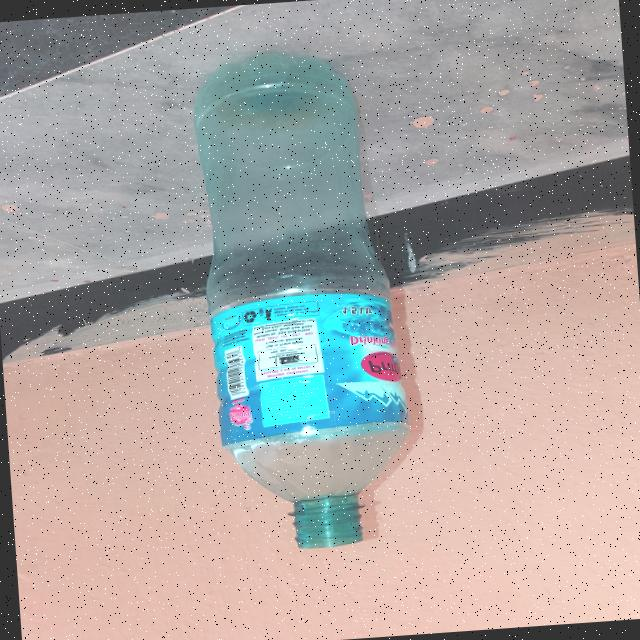bottle: (172, 38, 428, 578)
label: (217, 274, 411, 454)
